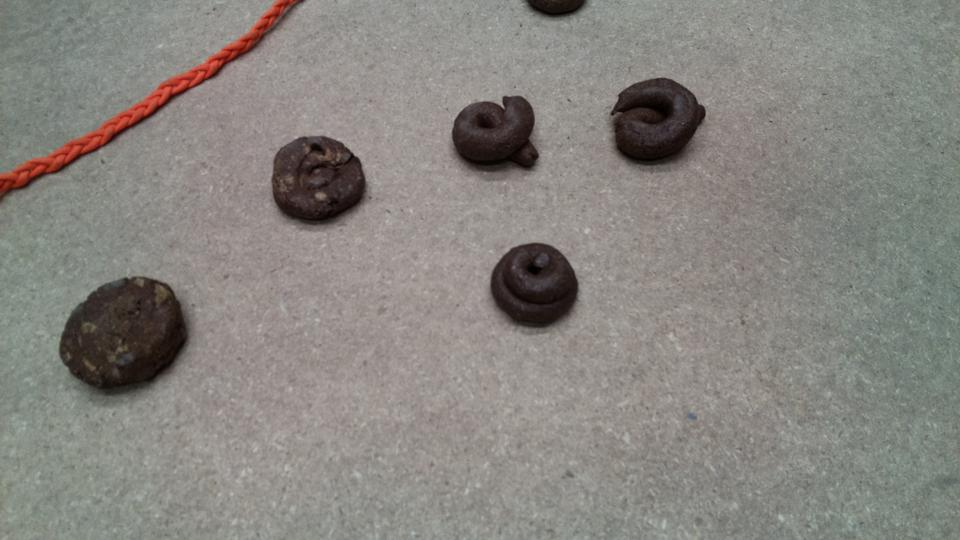poop: (56, 272, 191, 396), (268, 132, 371, 228), (607, 75, 709, 166), (487, 238, 582, 329), (449, 91, 544, 173), (522, 1, 591, 22)
rope: (1, 1, 295, 188)
